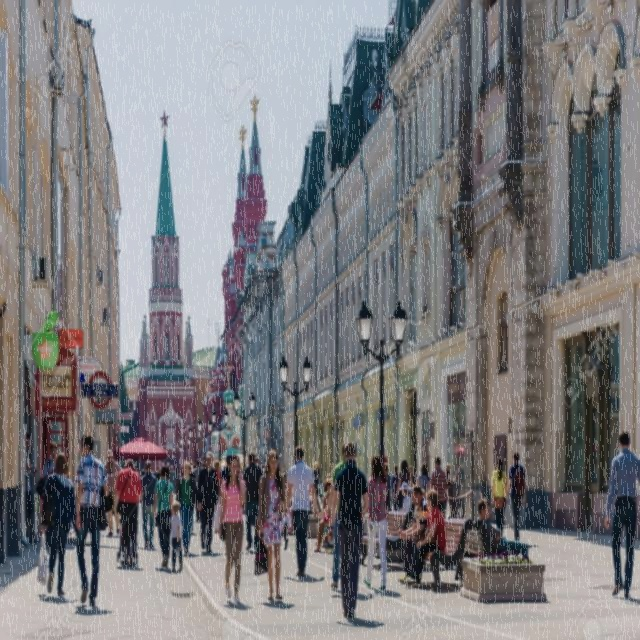pessoa: (325, 440, 371, 620), (74, 432, 115, 608), (604, 430, 640, 602), (40, 451, 80, 596), (253, 446, 287, 602), (282, 443, 320, 578), (217, 453, 247, 605), (404, 488, 447, 588), (473, 496, 529, 558), (363, 454, 388, 592), (113, 456, 143, 568), (396, 484, 429, 584), (327, 442, 347, 590), (36, 440, 61, 550), (174, 458, 202, 554), (152, 464, 175, 570), (196, 449, 219, 553), (218, 453, 242, 551), (242, 451, 264, 552), (506, 450, 526, 542), (140, 460, 158, 550), (313, 476, 333, 553), (104, 448, 120, 536), (491, 457, 508, 538), (430, 456, 450, 518), (168, 499, 184, 573), (26, 432, 38, 522), (394, 458, 413, 512), (132, 462, 141, 549), (214, 459, 224, 534), (309, 461, 323, 514), (192, 458, 203, 524), (452, 458, 468, 497), (140, 464, 152, 510), (416, 461, 432, 494), (390, 463, 400, 512), (407, 466, 417, 514), (323, 520, 337, 554), (444, 462, 457, 498), (383, 461, 392, 511), (589, 454, 601, 488), (399, 481, 412, 512), (168, 464, 178, 496), (174, 465, 184, 493), (286, 504, 294, 534), (280, 462, 290, 482), (284, 488, 292, 510), (255, 456, 264, 474), (188, 459, 196, 479), (153, 465, 161, 482), (312, 508, 324, 519), (326, 462, 334, 478), (316, 488, 324, 504), (120, 458, 128, 471), (237, 468, 244, 481), (138, 488, 144, 503), (136, 466, 144, 476), (258, 462, 266, 472), (129, 540, 133, 558), (150, 464, 156, 476), (200, 460, 206, 469), (324, 504, 328, 516), (338, 565, 342, 577), (221, 463, 226, 472), (330, 564, 334, 574), (192, 462, 196, 471), (132, 464, 136, 472)
